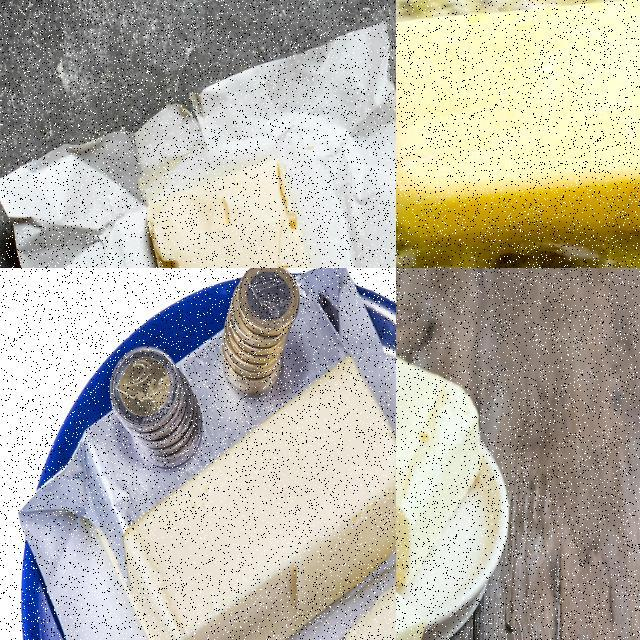Butter: (123, 352, 395, 639), (396, 0, 639, 248), (396, 332, 483, 639), (142, 153, 338, 267), (336, 562, 395, 639)
